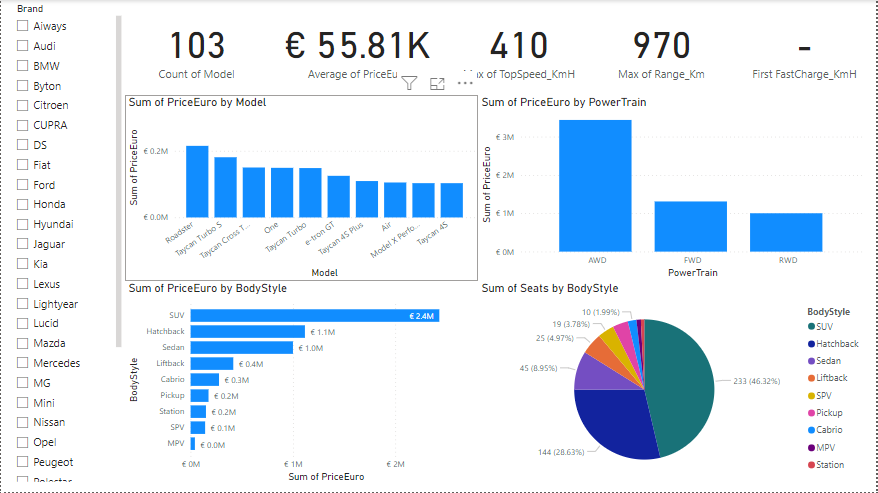

This screenshot's page, from the dashboard's own definition file:
{"tool":"powerbi","page":{"name":"Model","canvas":[1280,720],"ordinal":1},"visuals":[{"type":"slicer","fields":{"Values":["ElectricCarData_Clean.Brand"]},"box":[10.2,0,171.2,709.8],"z":0},{"type":"card","fields":{"Values":["CountNonNull(ElectricCarData_Clean.Model)"]},"box":[181.5,0,209.3,139],"z":1},{"type":"card","fields":{"Values":["Avg(ElectricCarData_Clean.PriceEuro)"]},"box":[390.7,0,263.4,139],"z":2},{"type":"card","fields":{"Values":["Max(ElectricCarData_Clean.TopSpeed_KmH)"]},"box":[654.1,0,207.8,139],"z":3},{"type":"card","fields":{"Values":["Max(ElectricCarData_Clean.Range_Km)"]},"box":[862,0,209.3,139],"z":4},{"type":"card","fields":{"Values":["Min(ElectricCarData_Clean.FastCharge_KmH)"]},"box":[1071.2,0,209.3,139],"z":5},{"type":"clusteredColumnChart","fields":{"Category":["ElectricCarData_Clean.Model"],"Y":["Sum(ElectricCarData_Clean.PriceEuro)"]},"box":[181.5,139,516.6,272.2],"z":6},{"type":"clusteredBarChart","fields":{"Category":["ElectricCarData_Clean.BodyStyle"],"Y":["Sum(ElectricCarData_Clean.PriceEuro)"]},"box":[181,411,517,299],"z":7},{"type":"clusteredColumnChart","fields":{"Category":["ElectricCarData_Clean.PowerTrain"],"Y":["Sum(ElectricCarData_Clean.PriceEuro)"]},"box":[698,139,570.7,272.2],"z":8},{"type":"pieChart","fields":{"Category":["ElectricCarData_Clean.BodyStyle"],"Y":["Sum(ElectricCarData_Clean.Seats)"]},"box":[698,411.2,570.7,298.5],"z":9}]}

Visuals, with their boxes in screenshot pixels (x1, y1, x2, y2), scaled from the page's 1280x720 canvas onto the 878x493 screenshot:
slicer - ElectricCarData_Clean.Brand: x1=7, y1=0, x2=124, y2=486
card - CountNonNull(ElectricCarData_Clean.Model): x1=124, y1=0, x2=268, y2=95
card - Avg(ElectricCarData_Clean.PriceEuro): x1=268, y1=0, x2=449, y2=95
card - Max(ElectricCarData_Clean.TopSpeed_KmH): x1=449, y1=0, x2=591, y2=95
card - Max(ElectricCarData_Clean.Range_Km): x1=591, y1=0, x2=735, y2=95
card - Min(ElectricCarData_Clean.FastCharge_KmH): x1=735, y1=0, x2=877, y2=95
clusteredColumnChart - ElectricCarData_Clean.Model x Sum(ElectricCarData_Clean.PriceEuro): x1=124, y1=95, x2=479, y2=282
clusteredBarChart - ElectricCarData_Clean.BodyStyle x Sum(ElectricCarData_Clean.PriceEuro): x1=124, y1=281, x2=479, y2=486
clusteredColumnChart - ElectricCarData_Clean.PowerTrain x Sum(ElectricCarData_Clean.PriceEuro): x1=479, y1=95, x2=870, y2=282
pieChart - ElectricCarData_Clean.BodyStyle x Sum(ElectricCarData_Clean.Seats): x1=479, y1=282, x2=870, y2=486
